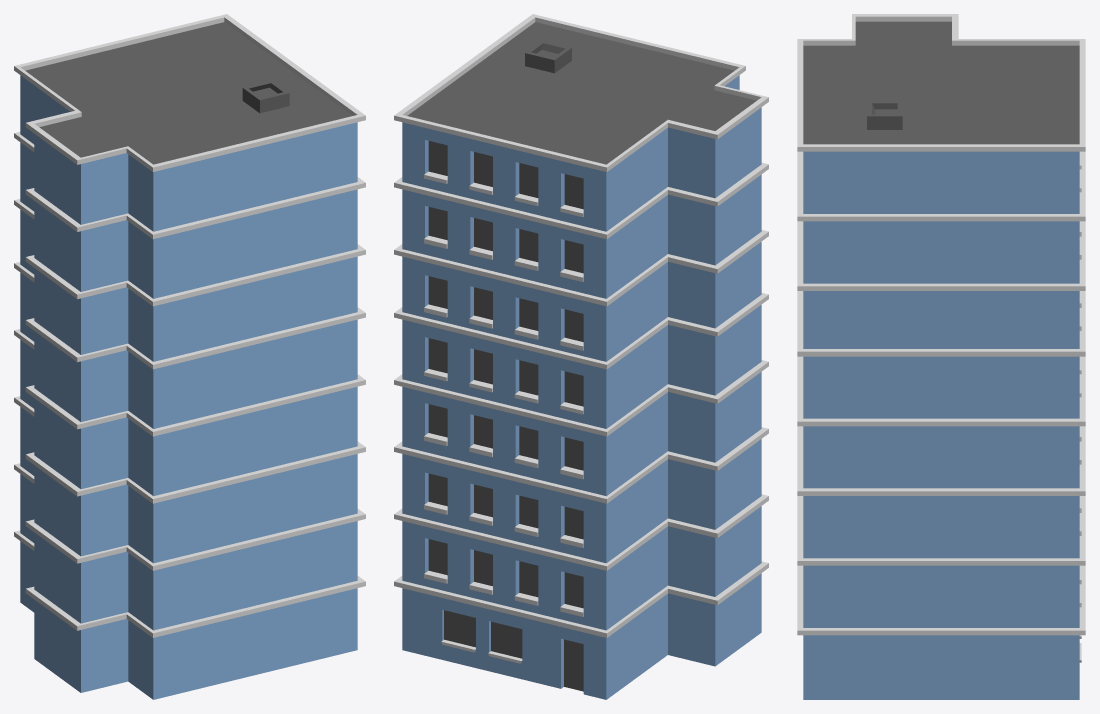
Rendered from condo2.fbx.
3 renders of one model, left to right at view 1: azimuth 30°, elevation 25°; view 2: azimuth 150°, elevation 25°; view 3: azimuth 270°, elevation 25°, orthographic. The views are drawn at different scales.
Parts seen in each view (by area): view 1: condo.001; view 2: condo.001; view 3: condo.001.
Boxes of the visible parts, box(x1,y1,x2,y2) form: condo.001: box(14, 14, 365, 699); condo.001: box(394, 14, 768, 699); condo.001: box(797, 14, 1085, 699).
Bounding box in the file's own units: 126 × 250 × 116.
